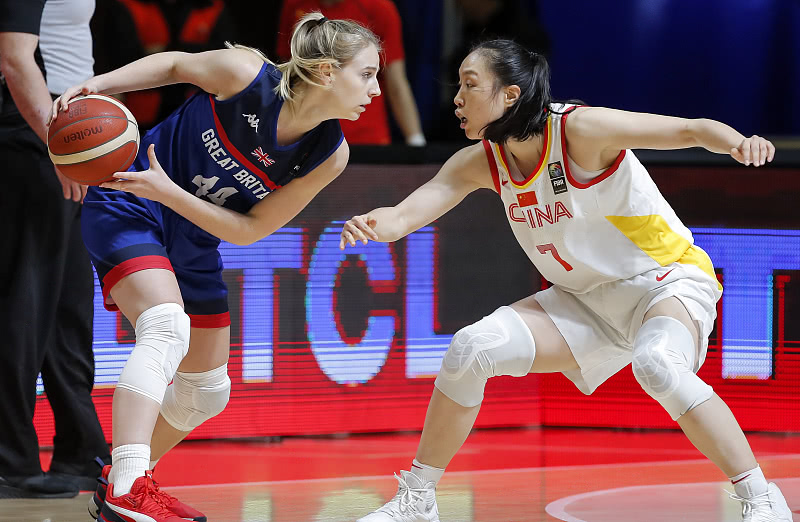ball: (46, 91, 140, 186)
